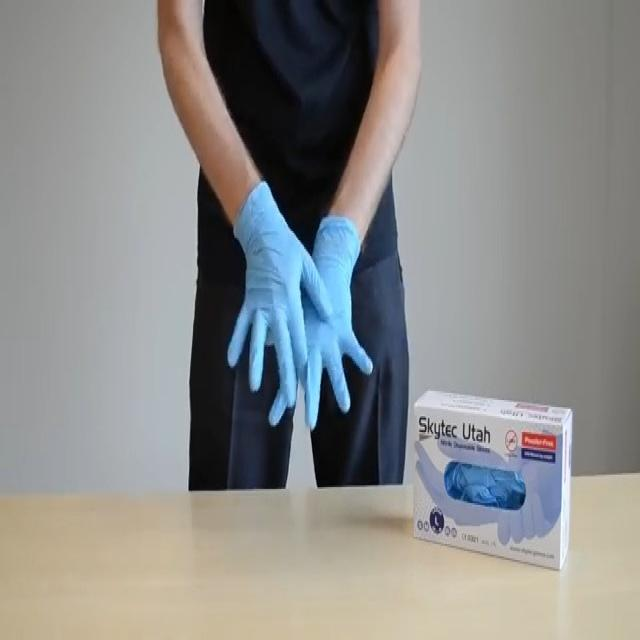Gloves: (264, 201, 382, 445), (218, 168, 331, 422)
